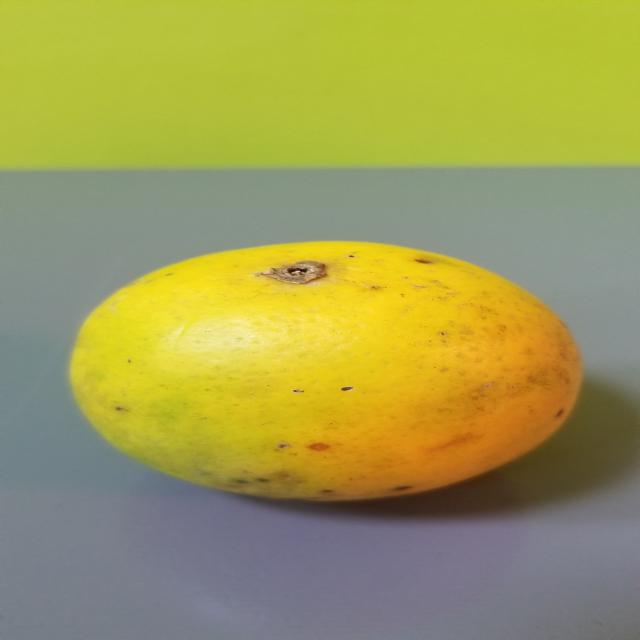Ripe orange: (69, 235, 591, 508)
